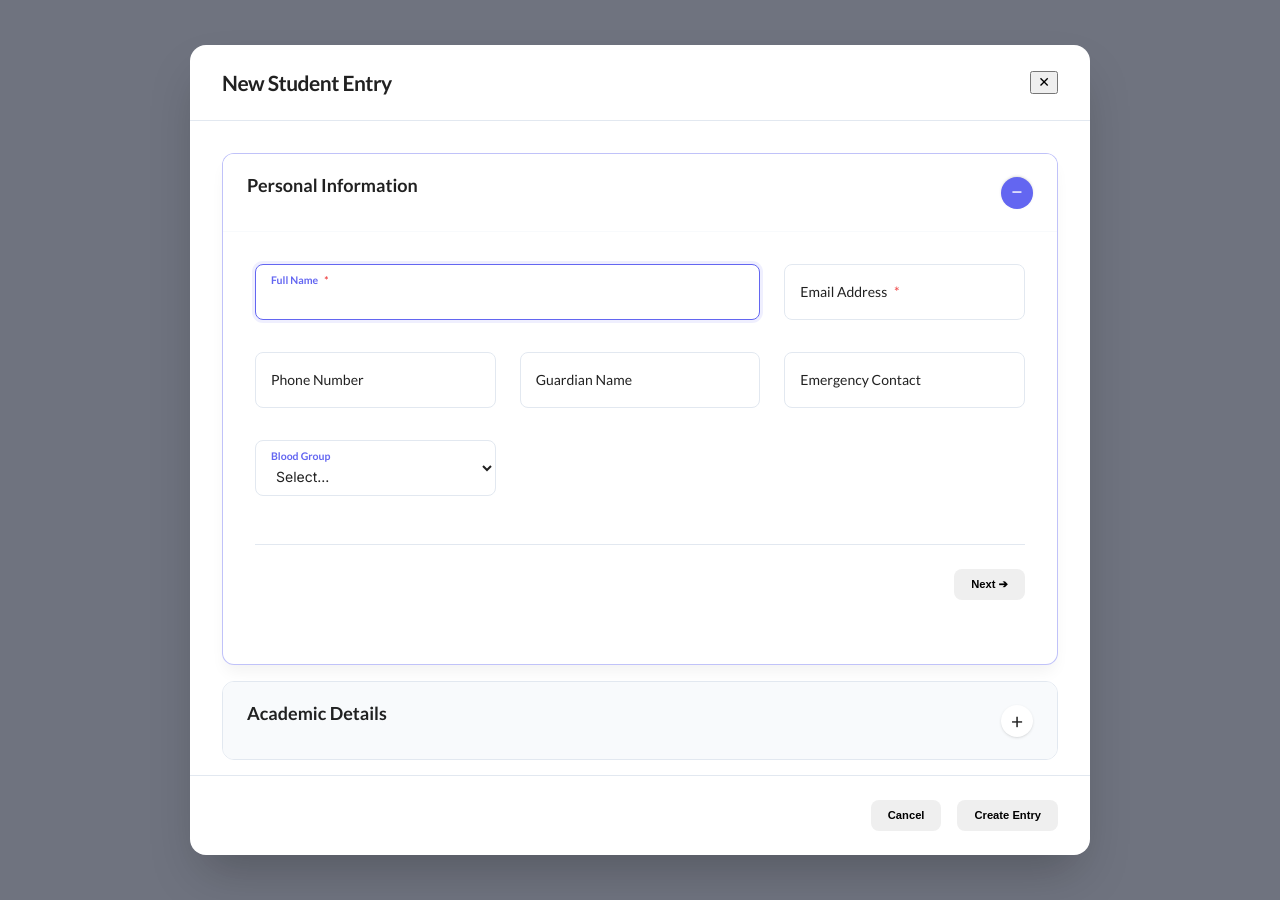
Test case: StudentForm Enterprise Tests › navigates through Accordion sections correctly
The image size is (1280, 900).
Section 1 is open. Click Next.
Step 1. Click the button "Next ➔" → click(990, 585), box left=954, top=569, right=1025, bottom=600
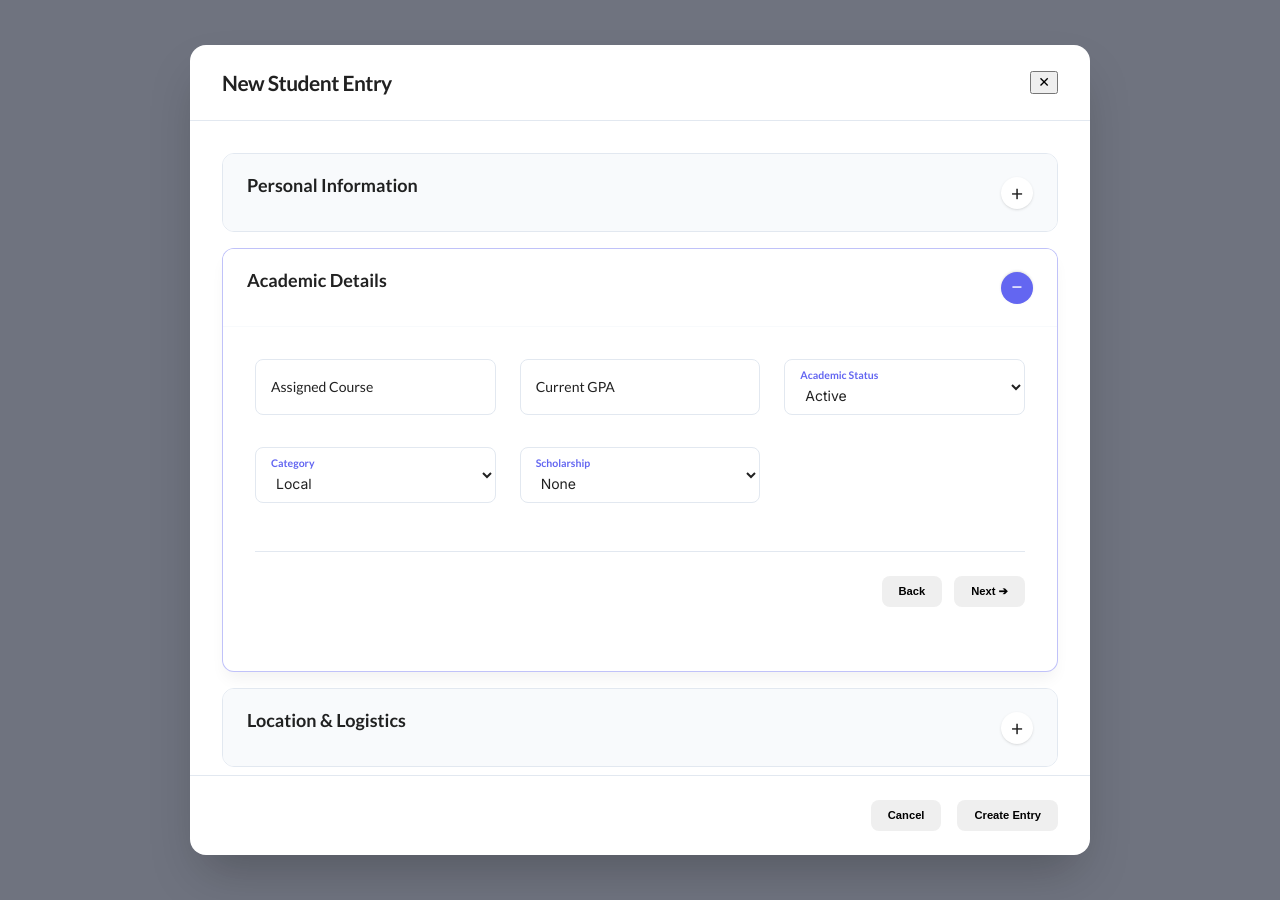
Check: the number field labelled "Current GPA" is shown, box left=520, top=359, right=760, bottom=415
